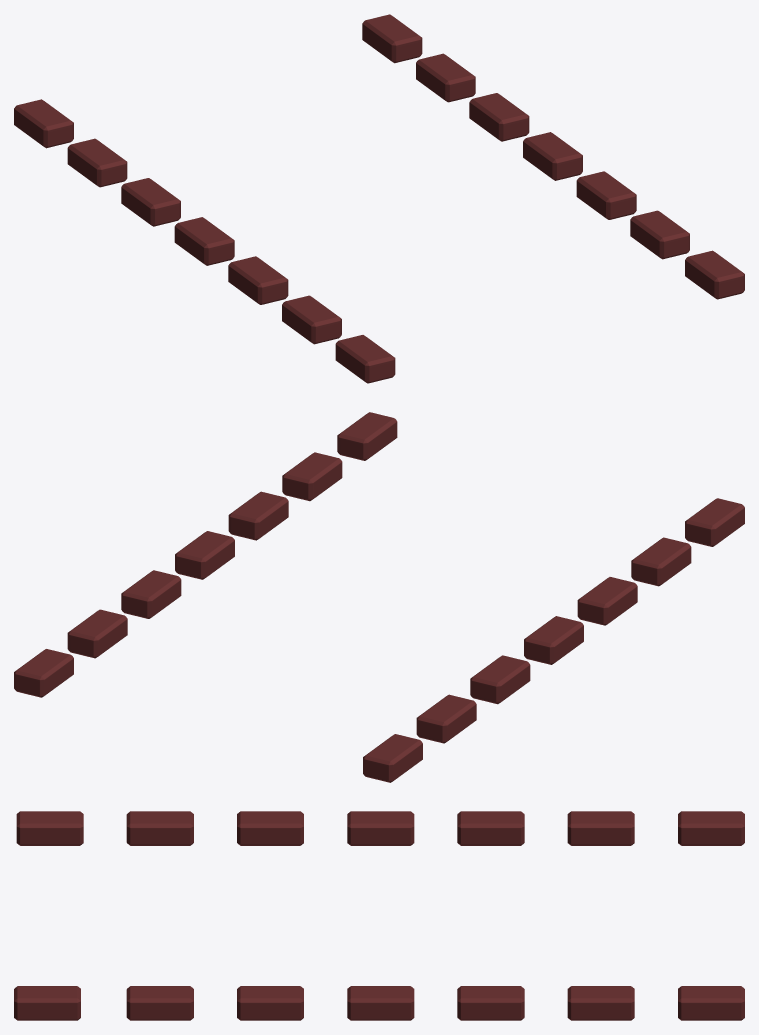
Rendered from gy_brick.fbx.
3 views of the same model, one above another, from view 1: azimuth 30°, elevation 25°; view 2: azimuth 150°, elevation 25°; view 3: azimuth 270°, elevation 25° (orthographic). The views are drawn at different scales.
Parts seen in each view (by area): view 1: brick02, brick08, brick10, brick12, brick04, brick06, brick09, brick03, brick01, brick05, brick11, brick13 (+2 smaller); view 2: brick02, brick05, brick07, brick09, brick12, brick01, brick04, brick11, brick14, brick08, brick13, brick03 (+2 smaller); view 3: brick01, brick07, brick03, brick08, brick10, brick04, brick05, brick11, brick12, brick02, brick06, brick09 (+2 smaller).
Part boxes in pixels (box(x1,y1,x2,y2)): brick02: box(576, 171, 636, 219); brick08: box(335, 335, 395, 383); brick10: box(174, 217, 234, 265); brick12: box(67, 138, 127, 187); brick04: box(469, 93, 529, 141); brick06: box(362, 14, 422, 63); brick09: box(228, 256, 288, 304); brick03: box(523, 132, 582, 180); brick01: box(630, 210, 689, 259); brick05: box(416, 53, 475, 102); brick11: box(121, 178, 180, 226); brick13: box(14, 99, 73, 148); brick02: box(228, 491, 288, 540); brick05: box(67, 609, 127, 658); brick07: box(631, 537, 691, 586); brick09: box(577, 577, 637, 625); brick12: box(416, 694, 476, 743); brick01: box(282, 452, 342, 501); brick04: box(121, 570, 181, 618); brick11: box(470, 655, 530, 704); brick14: box(337, 412, 397, 460); brick08: box(685, 498, 744, 546); brick13: box(363, 734, 422, 782); brick03: box(175, 531, 234, 579); brick01: box(126, 986, 193, 1020); brick07: box(126, 811, 193, 845); brick03: box(347, 986, 414, 1020); brick08: box(16, 811, 83, 845); brick10: box(347, 811, 414, 845); brick04: box(457, 986, 524, 1020); brick05: box(567, 986, 634, 1020); brick11: box(457, 811, 524, 845); brick12: box(567, 811, 634, 845); brick02: box(237, 986, 303, 1020); brick06: box(678, 986, 744, 1020); brick09: box(237, 811, 303, 845).
Bounding box in the file's own units: 57.83 × 3.15 × 93.93.
